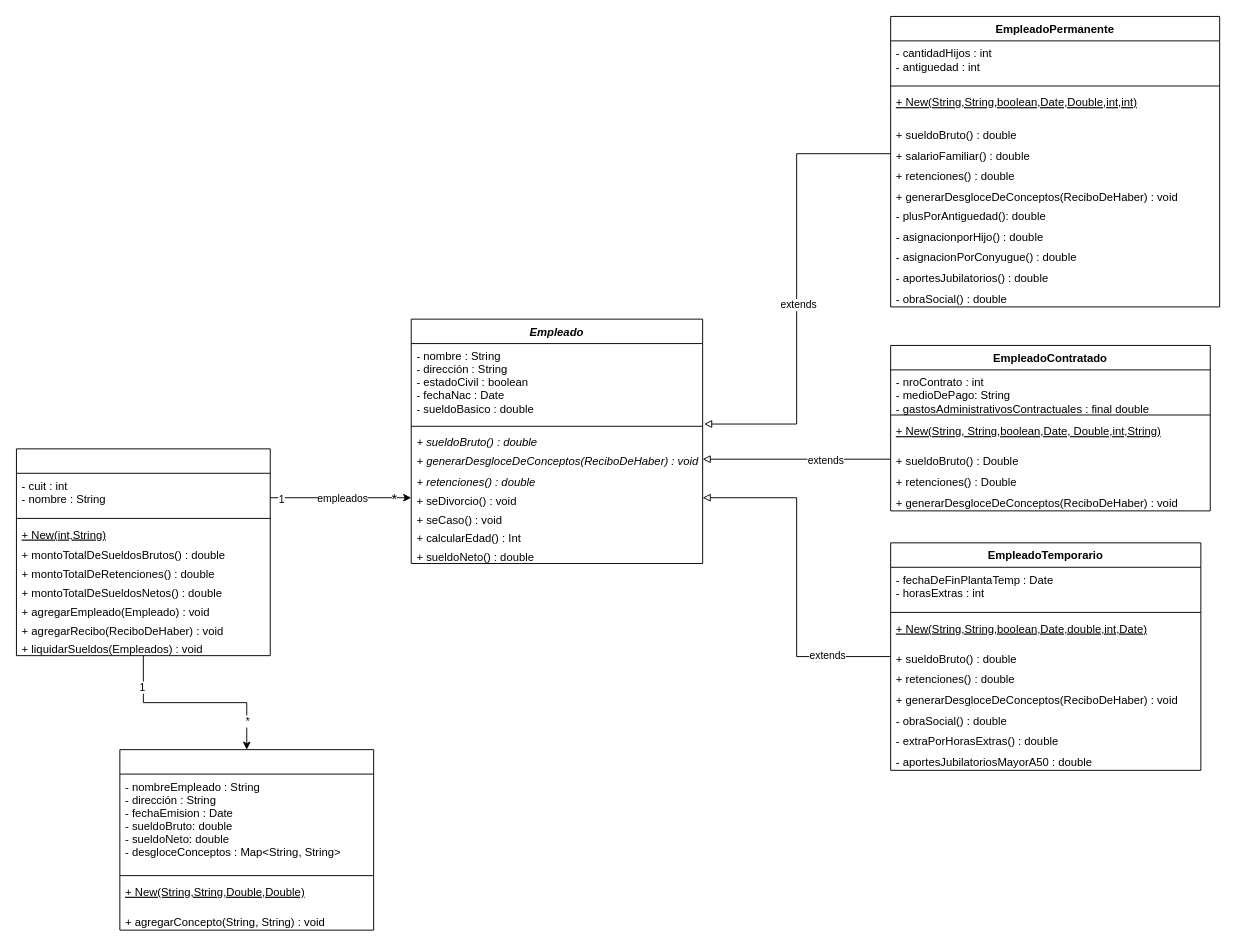
Some shapes in this 1236 by 949 pixel diagram are drawn without their labels. Each missing label, with the box of its shape:
Empresa: (16, 448, 270, 656)
ReciboDeHaber: (119, 749, 374, 930)
